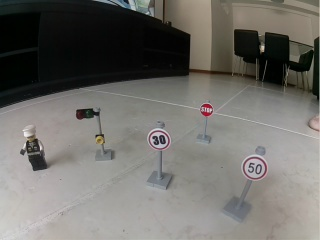Person: (19, 125, 51, 173)
Red Traffic Light: (75, 107, 114, 162)
Speed Limit 30: (147, 128, 172, 151)
Speed Limit 50: (242, 155, 268, 180)
Stop Sign: (199, 103, 213, 117)
